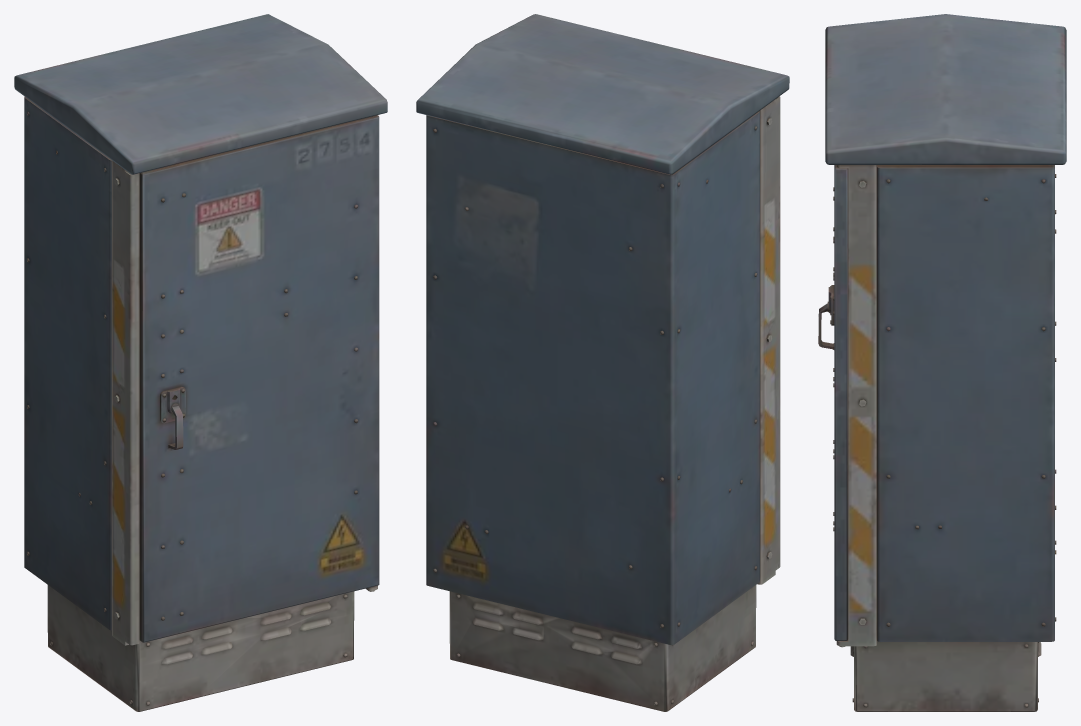
Rendered from utility.glb.
3 renders of one model, left to right at view 1: azimuth 30°, elevation 25°; view 2: azimuth 150°, elevation 25°; view 3: azimuth 270°, elevation 25°, orthographic.
Visible parts, largest first — view 1: utility_box_01_box; view 2: utility_box_01_box; view 3: utility_box_01_box.
Part boxes in pixels (box(x1,y1,x2,y2)): utility_box_01_box: box(14, 14, 387, 711); utility_box_01_box: box(416, 14, 789, 711); utility_box_01_box: box(818, 14, 1066, 711).
Size of the model in its own units: 0.52 by 1.12 by 0.432.
1 material, 1 textured.
